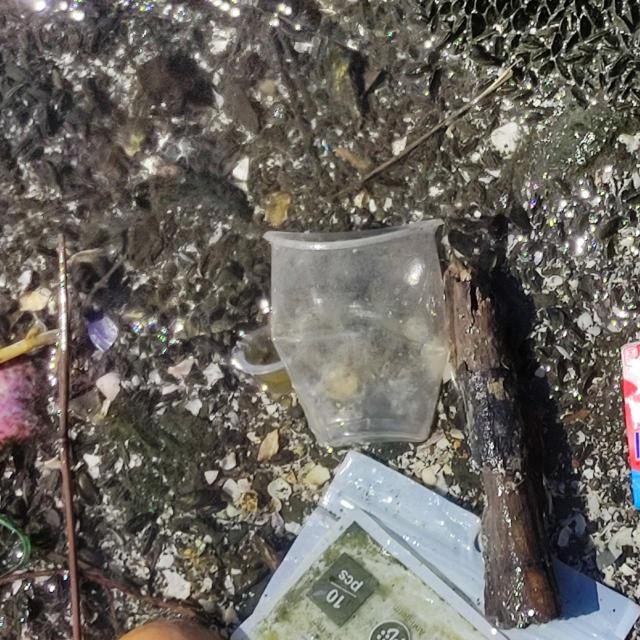plastic_waste: (213, 449, 640, 640), (264, 221, 458, 448)
